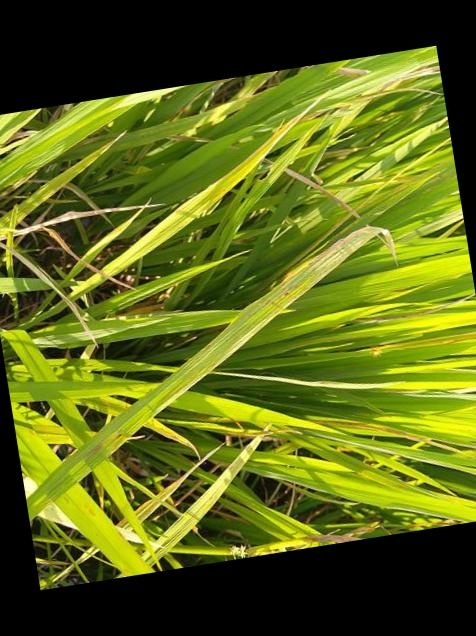Leaf Blight: (368, 327, 476, 357)
Leaf Streak: (217, 225, 394, 362)
